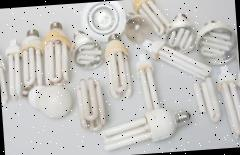lightbulb: (0, 0, 240, 155), (95, 52, 192, 151), (194, 18, 238, 66), (79, 0, 127, 42), (28, 82, 74, 120), (69, 28, 105, 70), (164, 11, 198, 54), (123, 11, 154, 44)
